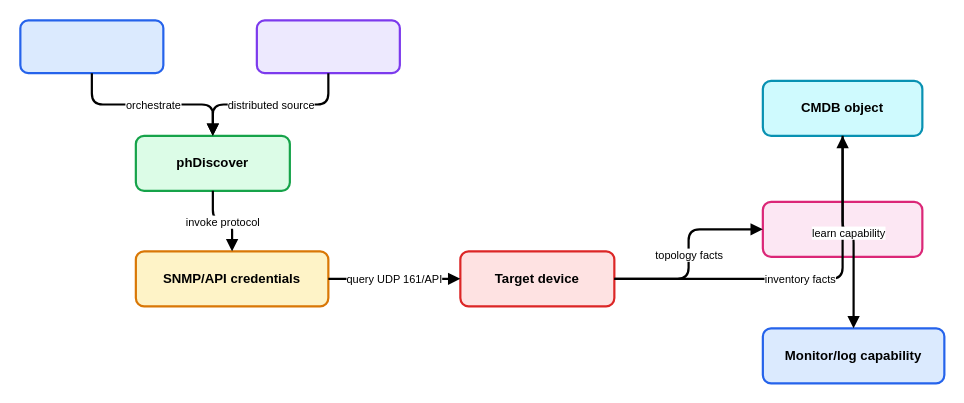
Some shapes in this 964 by 403 pixel diagram are drawn without their labels. Each missing label, with the centre of its shape:
"Collector" belongs at [327,46].
"Relationships" belongs at [842,228].
"Supervisor" belongs at [91,46].
